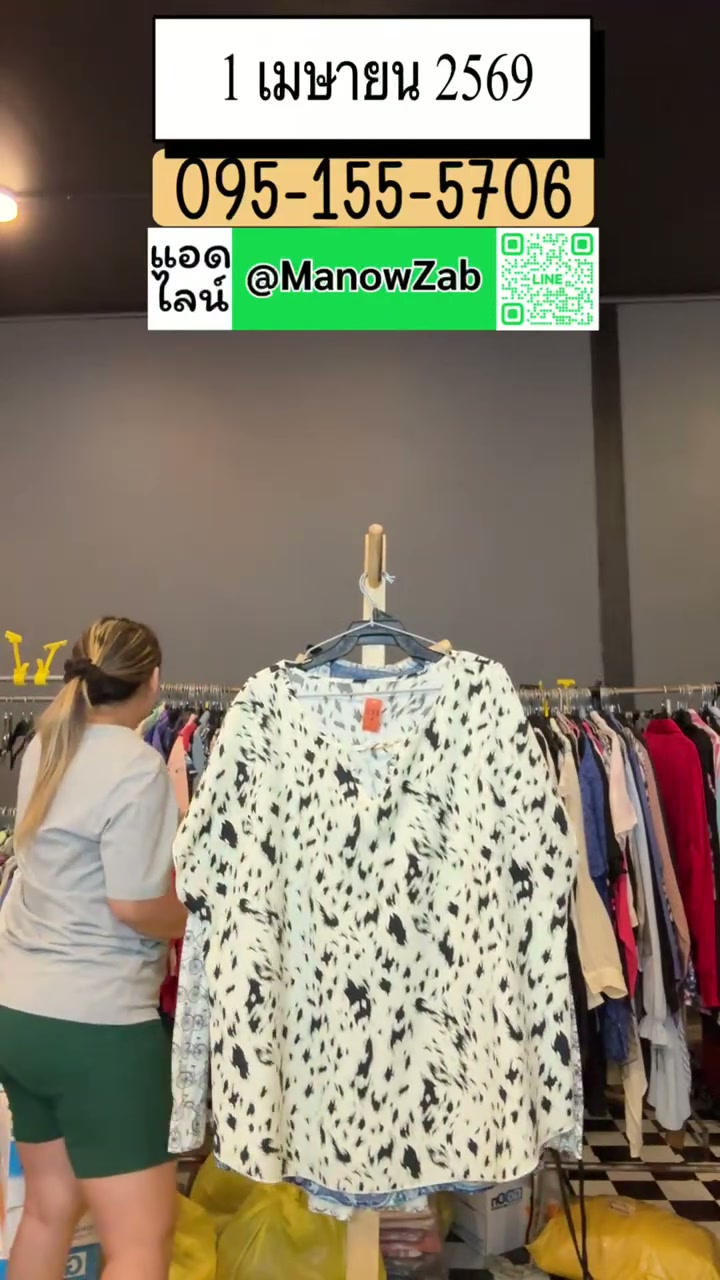display_shirt: (171, 635, 581, 1215)
